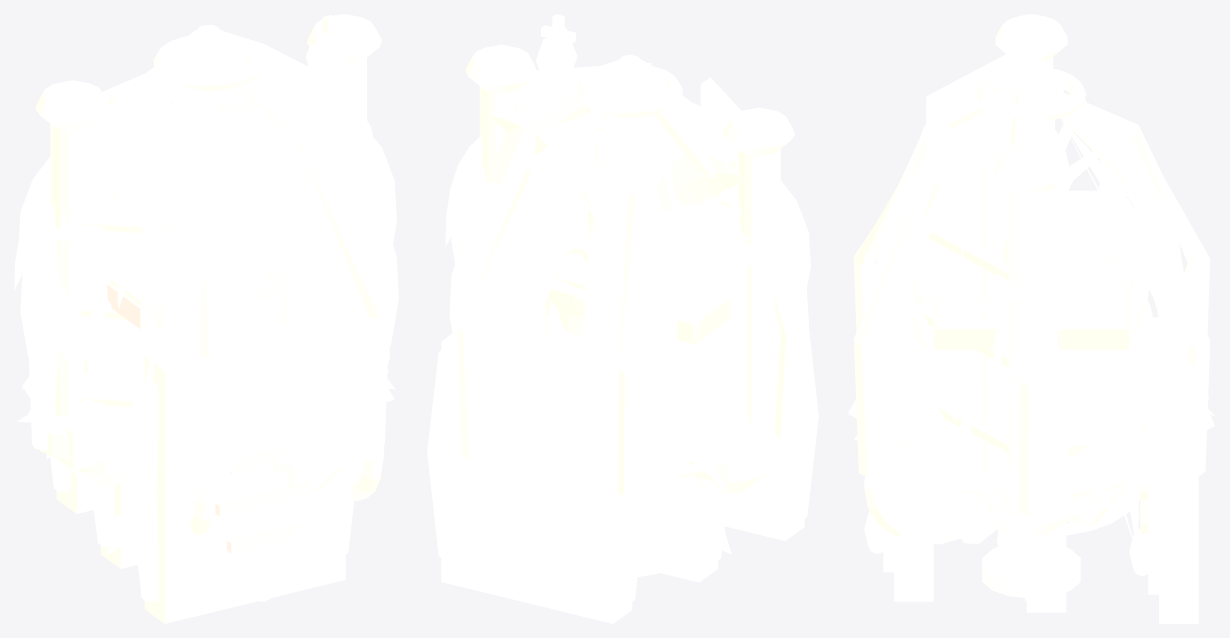
The model's file is spell-models-cleric.glb.
The picture shows the model from 3 angles, left to right: view 1: azimuth 30°, elevation 25°; view 2: azimuth 150°, elevation 25°; view 3: azimuth 270°, elevation 25°; orthographic projection. The views are drawn at different scales.
Visible parts, largest first — view 1: fx_divine-aegis, fx_penance, fx_salvation, fx_sanctuary, fx_guardian-of-the-dawn, fx_cleansing-radiance, fx_heal, fx_circle-of-healing, fx_holy-word-chastise, fx_power-word-shield, fx_greater-heal, fx_guardian-light (+7 smaller); view 2: fx_penance, fx_divine-aegis, fx_salvation, fx_guardian-of-the-dawn, fx_sanctuary, fx_heal, fx_cleansing-radiance, fx_holy-fire, fx_greater-heal, fx_circle-of-healing, fx_divine-hymn, fx_binding-light (+6 smaller); view 3: fx_divine-aegis, fx_salvation, fx_penance, fx_heal, fx_sanctuary, fx_holy-word-chastise, fx_cleansing-radiance, fx_guardian-of-the-dawn, fx_circle-of-healing, fx_divine-hymn, fx_binding-light, fx_holy-word-serenity (+8 smaller).
Part boxes in pixels (x1,y1,x2,y2): fx_divine-aegis: (19, 29, 398, 490); fx_penance: (50, 316, 353, 623); fx_salvation: (35, 14, 381, 458); fx_sanctuary: (41, 25, 387, 470); fx_guardian-of-the-dawn: (14, 15, 373, 290); fx_cleansing-radiance: (145, 283, 389, 412); fx_heal: (106, 191, 289, 329); fx_circle-of-healing: (22, 370, 394, 473); fx_holy-word-chastise: (178, 427, 384, 536); fx_power-word-shield: (56, 80, 369, 244); fx_greater-heal: (110, 91, 321, 271); fx_guardian-light: (84, 63, 278, 374); fx_penance: (427, 308, 818, 623); fx_divine-aegis: (449, 59, 810, 497); fx_salvation: (465, 44, 794, 467); fx_guardian-of-the-dawn: (445, 14, 789, 329); fx_sanctuary: (477, 55, 776, 478); fx_heal: (544, 172, 730, 344); fx_cleansing-radiance: (532, 225, 786, 462); fx_holy-fire: (511, 446, 588, 528); fx_greater-heal: (523, 118, 719, 289); fx_circle-of-healing: (528, 395, 806, 479); fx_divine-hymn: (537, 139, 722, 396); fx_binding-light: (643, 436, 693, 541); fx_divine-aegis: (853, 62, 1210, 515); fx_salvation: (911, 14, 1067, 517); fx_penance: (864, 274, 1198, 623); fx_heal: (934, 190, 1136, 349); fx_sanctuary: (991, 57, 1069, 519); fx_holy-word-chastise: (864, 426, 988, 544); fx_cleansing-radiance: (864, 251, 1199, 473); fx_guardian-of-the-dawn: (968, 68, 1086, 477); fx_circle-of-healing: (848, 397, 1214, 498); fx_divine-hymn: (933, 236, 1140, 417); fx_binding-light: (942, 430, 1146, 548); fx_holy-word-serenity: (929, 328, 1158, 425).
Bounding box in the file's own units: 2.3 × 3.2 × 1.98.
